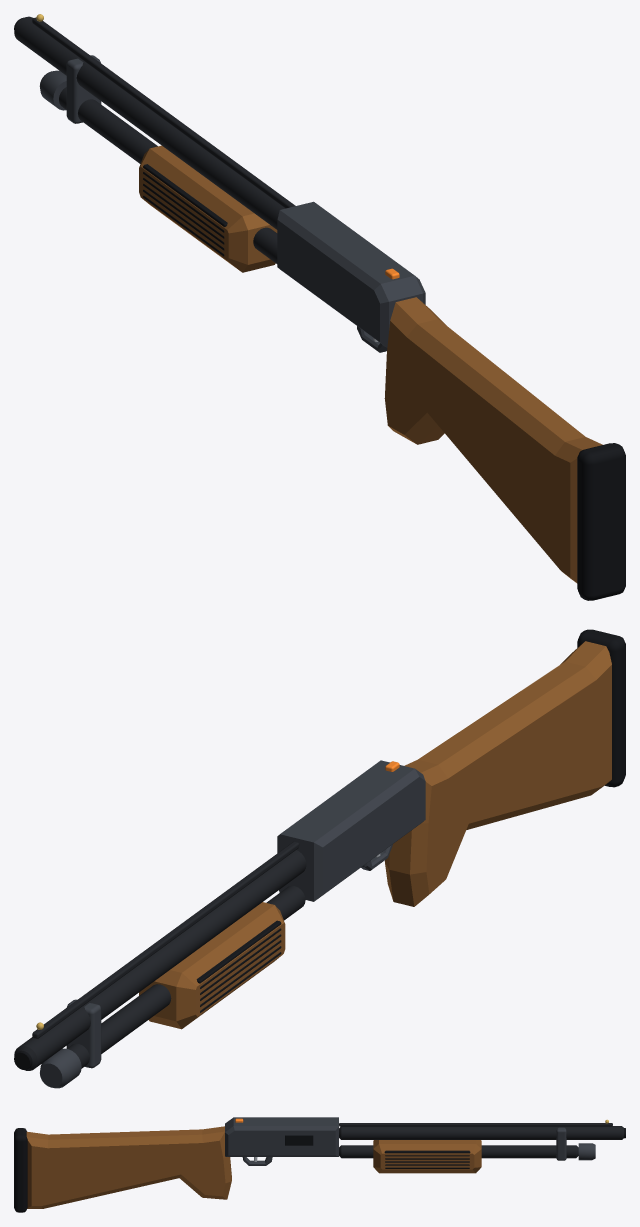
File: shotgun.glb
3 renders of one model, top to bottom at view 1: azimuth 30°, elevation 25°; view 2: azimuth 150°, elevation 25°; view 3: azimuth 270°, elevation 25°, orthographic. The views are drawn at different scales.
Visible parts, largest first — view 1: stock, receiver, buttpad, barrel, pump, tube_mag, vent_rib, barrel_clamp; view 2: stock, receiver, barrel, pump, tube_mag, vent_rib, buttpad, mag_cap, barrel_clamp, pump_groove_5; view 3: stock, receiver, barrel, pump, tube_mag, buttpad, vent_rib, barrel_clamp, pump_groove_5, ejection_port, mag_cap, trigger_guard (+5 smaller).
Part boxes in pixels (x1=…): stock: x1=384, y1=297, x2=602, y2=583; receiver: x1=277, y1=201, x2=425, y2=347; buttpad: x1=577, y1=443, x2=625, y2=600; barrel: x1=14, y1=16, x2=284, y2=229; pump: x1=139, y1=145, x2=277, y2=272; tube_mag: x1=59, y1=87, x2=277, y2=263; vent_rib: x1=32, y1=17, x2=295, y2=208; barrel_clamp: x1=66, y1=55, x2=101, y2=123; stock: x1=384, y1=641, x2=611, y2=906; receiver: x1=277, y1=760, x2=425, y2=901; barrel: x1=14, y1=850, x2=306, y2=1070; pump: x1=139, y1=902, x2=285, y2=1029; tube_mag: x1=67, y1=885, x2=305, y2=1068; vent_rib: x1=32, y1=841, x2=299, y2=1038; buttpad: x1=577, y1=629, x2=625, y2=787; mag_cap: x1=40, y1=1048, x2=81, y2=1088; barrel_clamp: x1=66, y1=999, x2=101, y2=1068; pump_groove_5: x1=196, y1=920, x2=281, y2=983; stock: x1=26, y1=1126, x2=231, y2=1208; receiver: x1=225, y1=1117, x2=338, y2=1156; barrel: x1=339, y1=1126, x2=623, y2=1139; pump: x1=373, y1=1140, x2=481, y2=1173; tube_mag: x1=339, y1=1145, x2=578, y2=1158; buttpad: x1=14, y1=1128, x2=27, y2=1212; vent_rib: x1=339, y1=1123, x2=612, y2=1126; barrel_clamp: x1=556, y1=1127, x2=566, y2=1160; pump_groove_5: x1=384, y1=1150, x2=470, y2=1153; ejection_port: x1=285, y1=1135, x2=313, y2=1145; mag_cap: x1=578, y1=1143, x2=595, y2=1160; trigger_guard: x1=242, y1=1157, x2=272, y2=1165.
Size of the model in its own units: 0.0615 by 0.1735 by 1.07.
